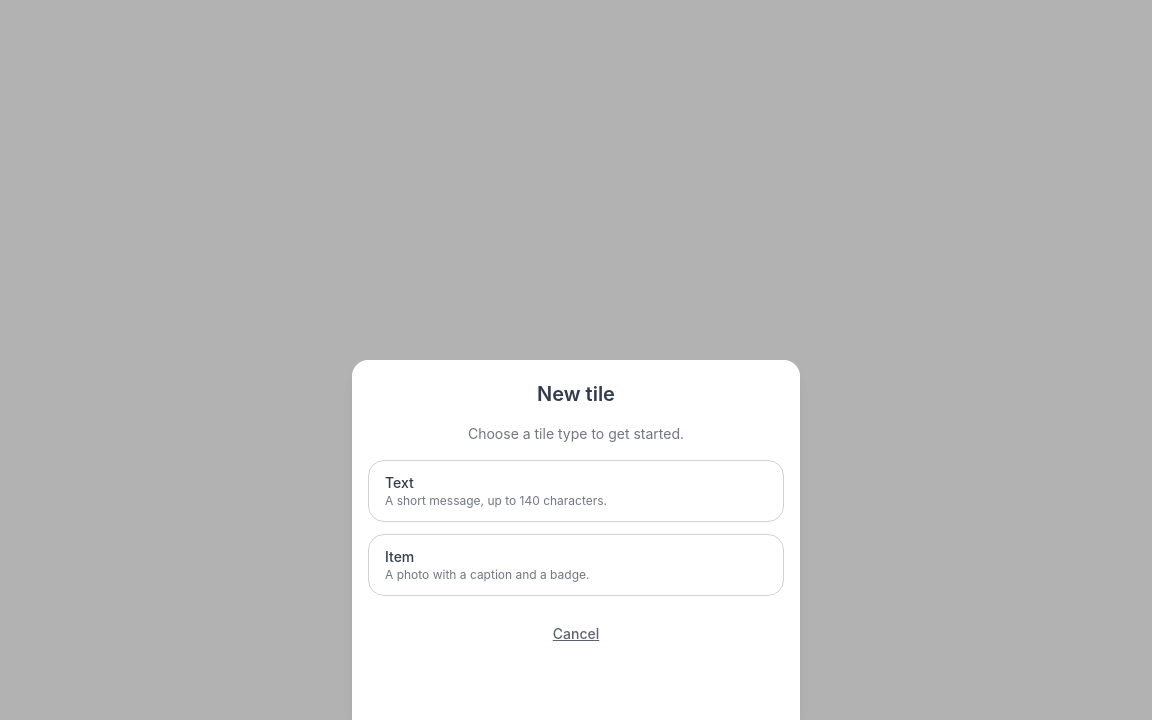
Test: AddTileSheet › asks for a photo when posting an item tile without one
Click the button "Item A photo with a caption and a badge.": coordinates (576, 565) [368,534,784,596]
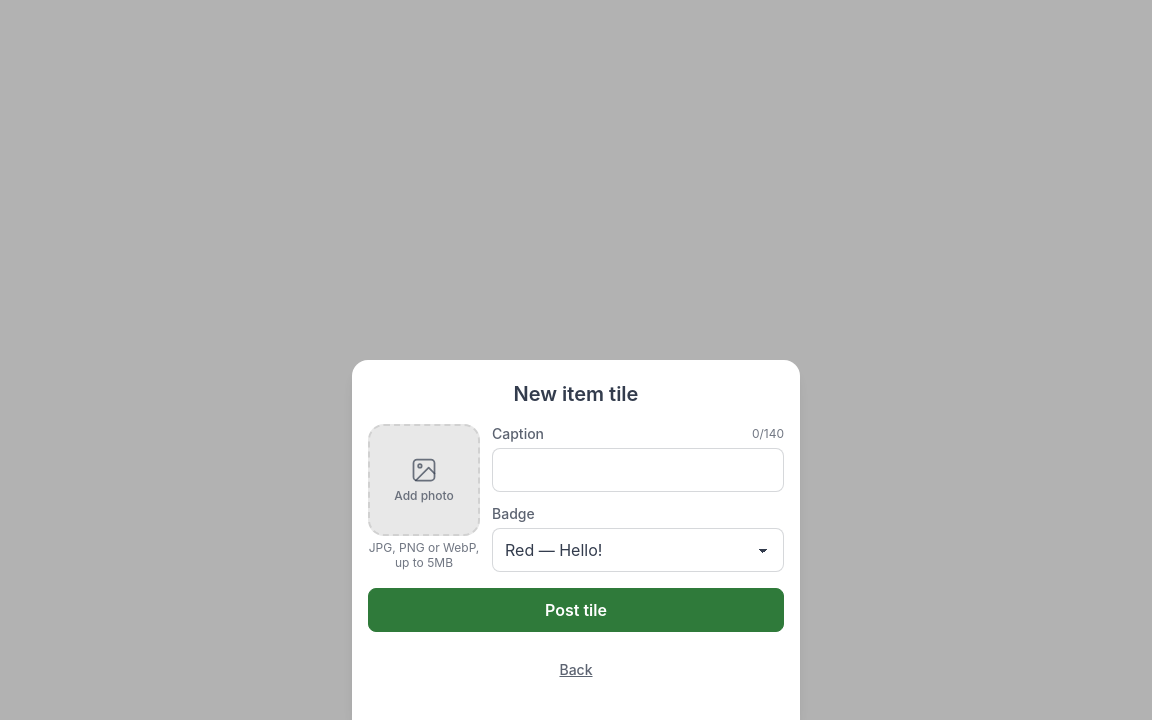
Click the button "Post tile": coordinates (576, 610) [368,588,784,632]
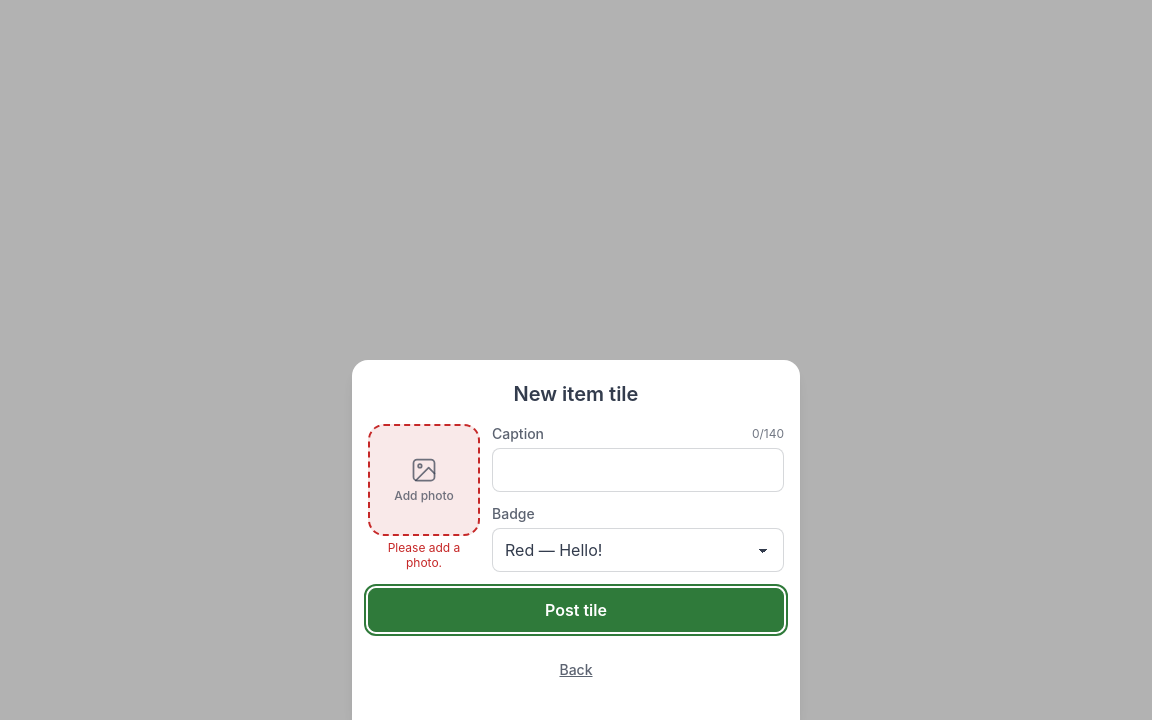
Result: the message reads "Please add a photo." at [388,540,460,570]
